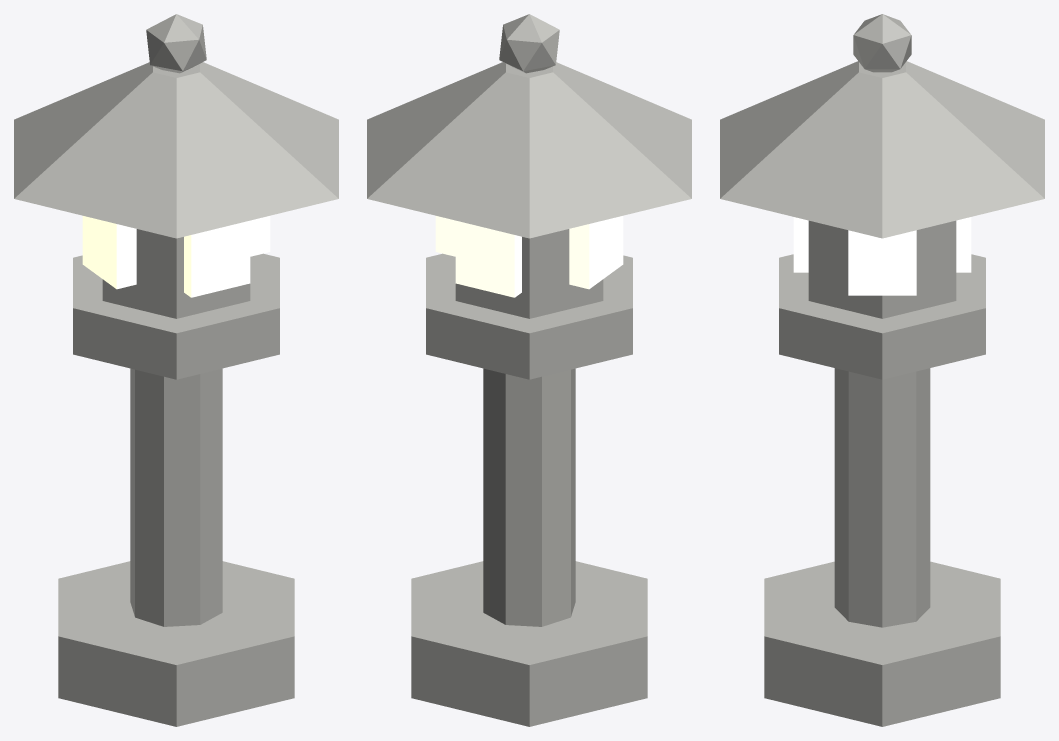
File: ishidoro.glb
The picture shows the model from 3 angles, left to right: view 1: azimuth 30°, elevation 25°; view 2: azimuth 150°, elevation 25°; view 3: azimuth 270°, elevation 25°; orthographic projection.
Visible parts, largest first — view 1: ishidoro; view 2: ishidoro; view 3: ishidoro.
Boxes of the visible parts, x1,y1,x2,y2 form: ishidoro: (14, 14, 338, 726); ishidoro: (367, 14, 691, 726); ishidoro: (720, 14, 1044, 726).
Bounding box in the file's own units: 1.1 × 2.12 × 0.9526.
